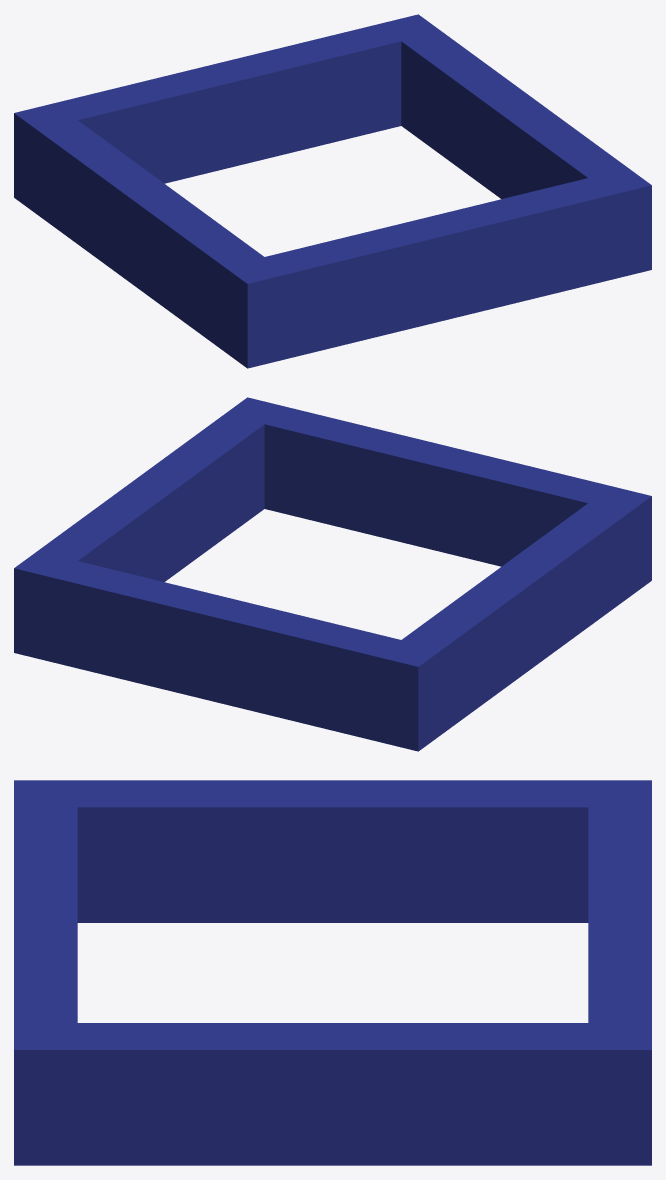
The model's file is MaskedAirLeft.fbx.
The picture shows the model from 3 angles, top to bottom: view 1: azimuth 30°, elevation 25°; view 2: azimuth 150°, elevation 25°; view 3: azimuth 270°, elevation 25°; orthographic projection. The views are drawn at different scales.
Visible parts, largest first — view 1: Body1; view 2: Body1; view 3: Body1.
Part boxes in pixels (left/top/right/bottom): Body1: left=14, top=14, right=651, bottom=368; Body1: left=14, top=397, right=651, bottom=751; Body1: left=14, top=780, right=651, bottom=1165.
Size of the model in its own units: 100 by 20 by 100.
